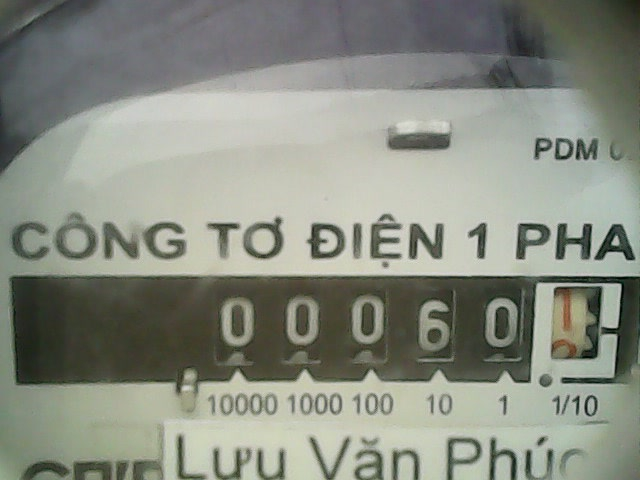phy_plate: (183, 276, 640, 381)
